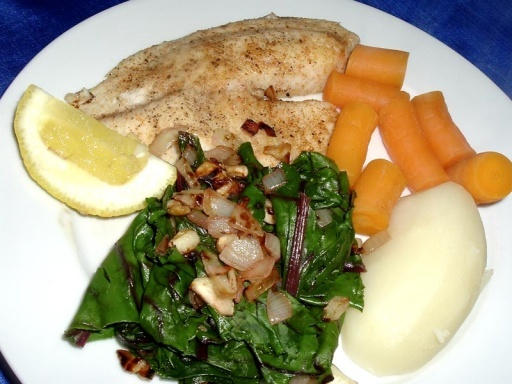background: (10, 7, 409, 230)
